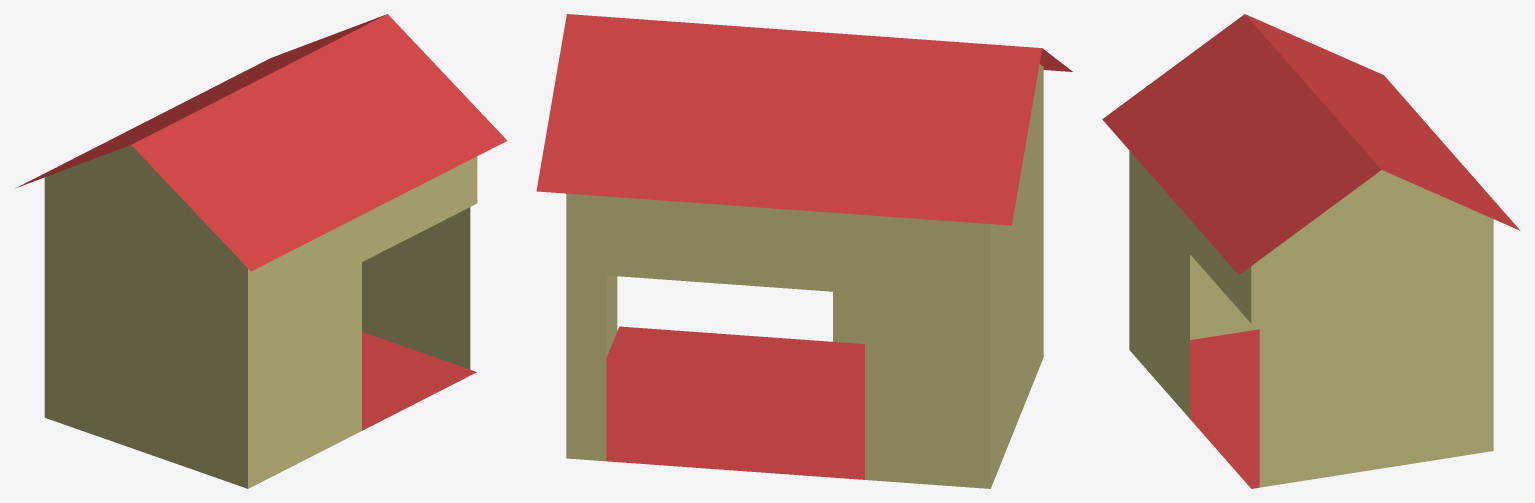
3 views of the same model, side by side, from view 1: azimuth 30°, elevation 25°; view 2: azimuth 150°, elevation 25°; view 3: azimuth 270°, elevation 25° (orthographic). The views are drawn at different scales.
Bounding box in the file's own units: 16.88 × 14.92 × 12.12.
